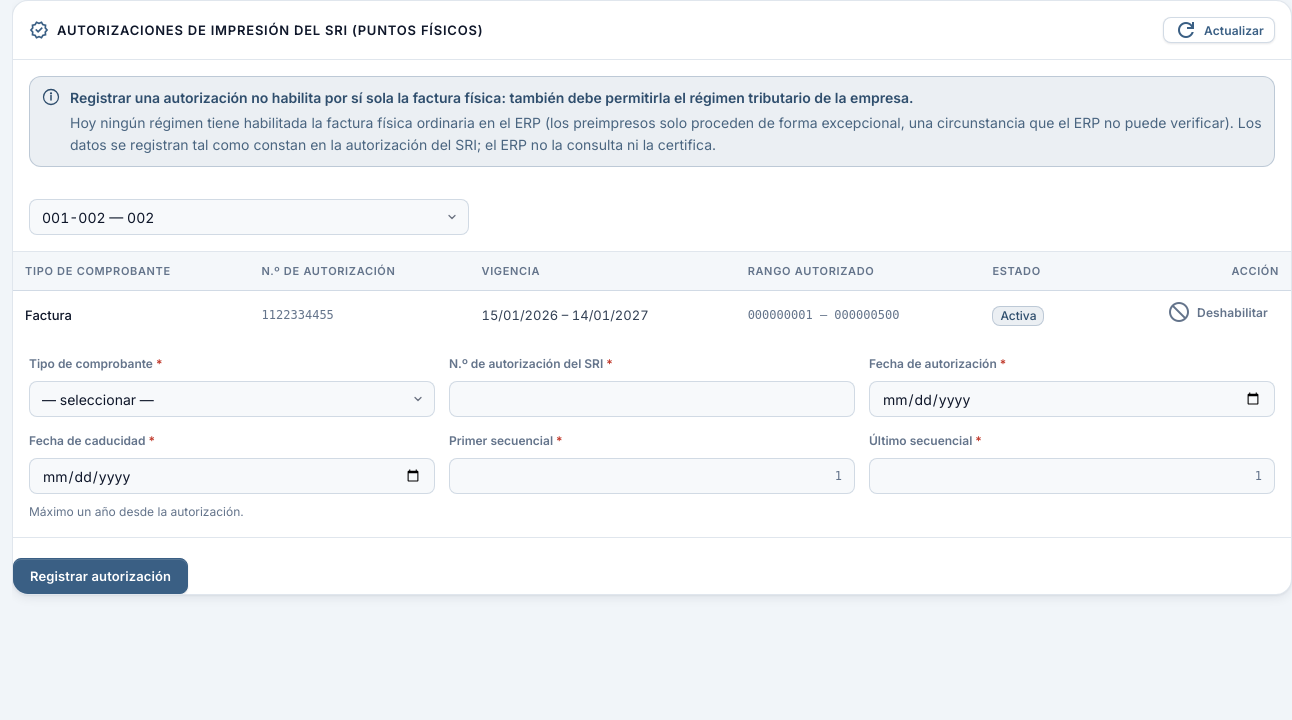
Test case: PhysicalDocumentAuthorizationsSection › informa el rango superpuesto que rechaza el backend
The width and height of the screenshot is (1292, 720).
Expected: the text "1122334455" is shown, top-left (262, 308), bottom-right (334, 322)
Select "01 — Factura" in the dropdown labelled "Tipo de comprobante*": (232, 399) top-left (29, 381), bottom-right (435, 417)
In the field labelled "N.º de autorización del SRI*": (652, 399) top-left (449, 381), bottom-right (855, 417), type "9988776655"
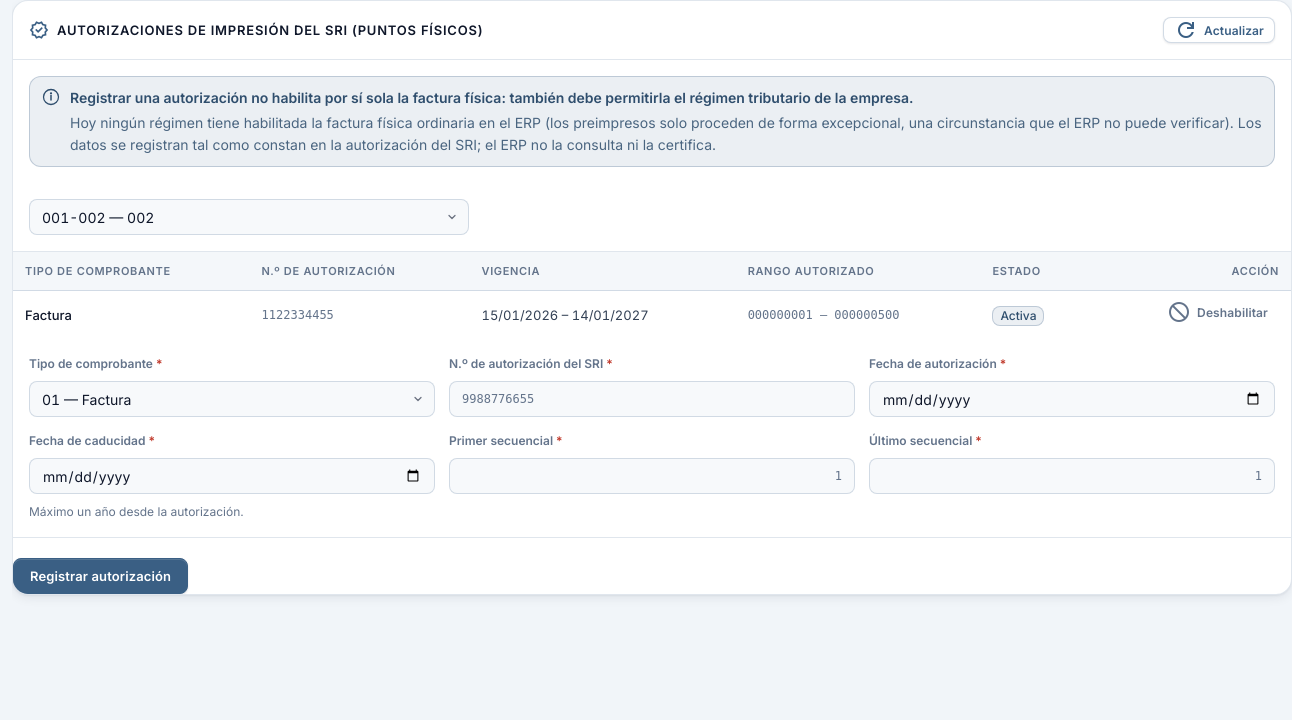
In the date field labelled "Fecha de autorización*": (1072, 399) top-left (869, 381), bottom-right (1275, 417), type "2027-01-15"
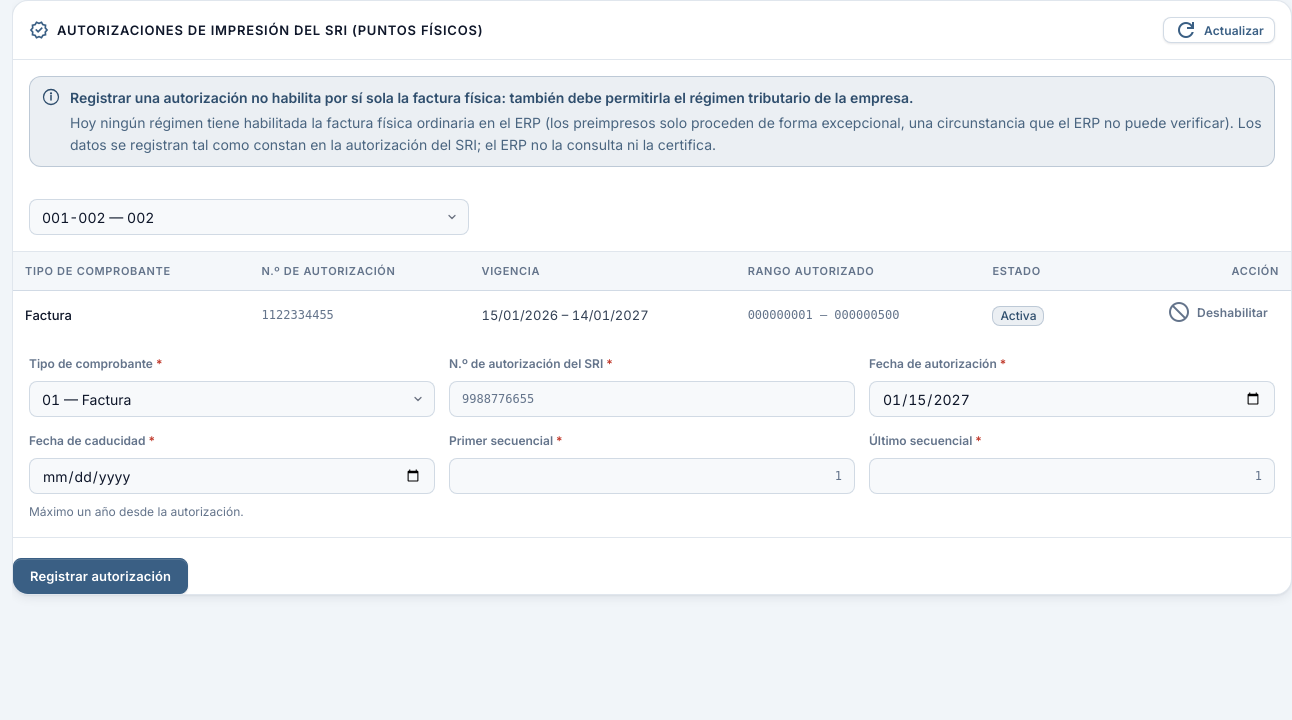
In the date field labelled "Fecha de caducidad* Máximo un año desde la autorización.": (232, 476) top-left (29, 458), bottom-right (435, 494), type "2028-01-14"
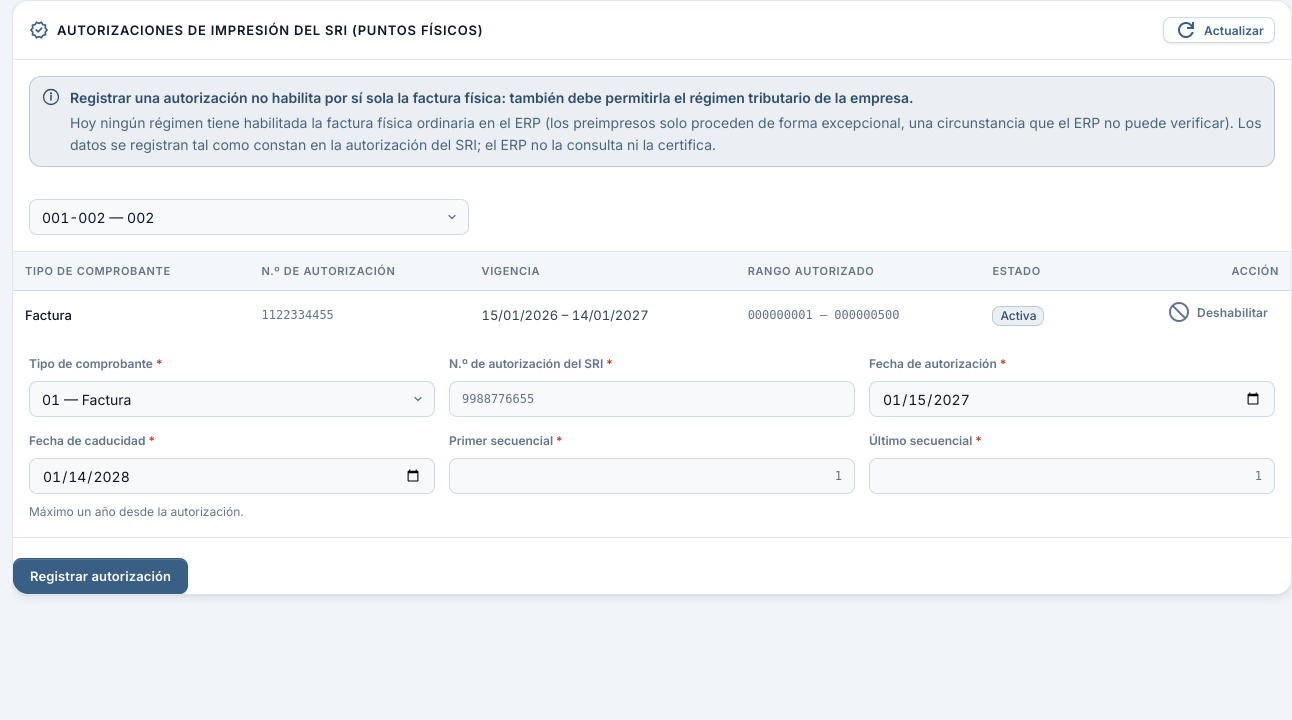
Replace the text in the field labelled "Primer secuencial*" with "400": (652, 476) top-left (449, 458), bottom-right (855, 494)
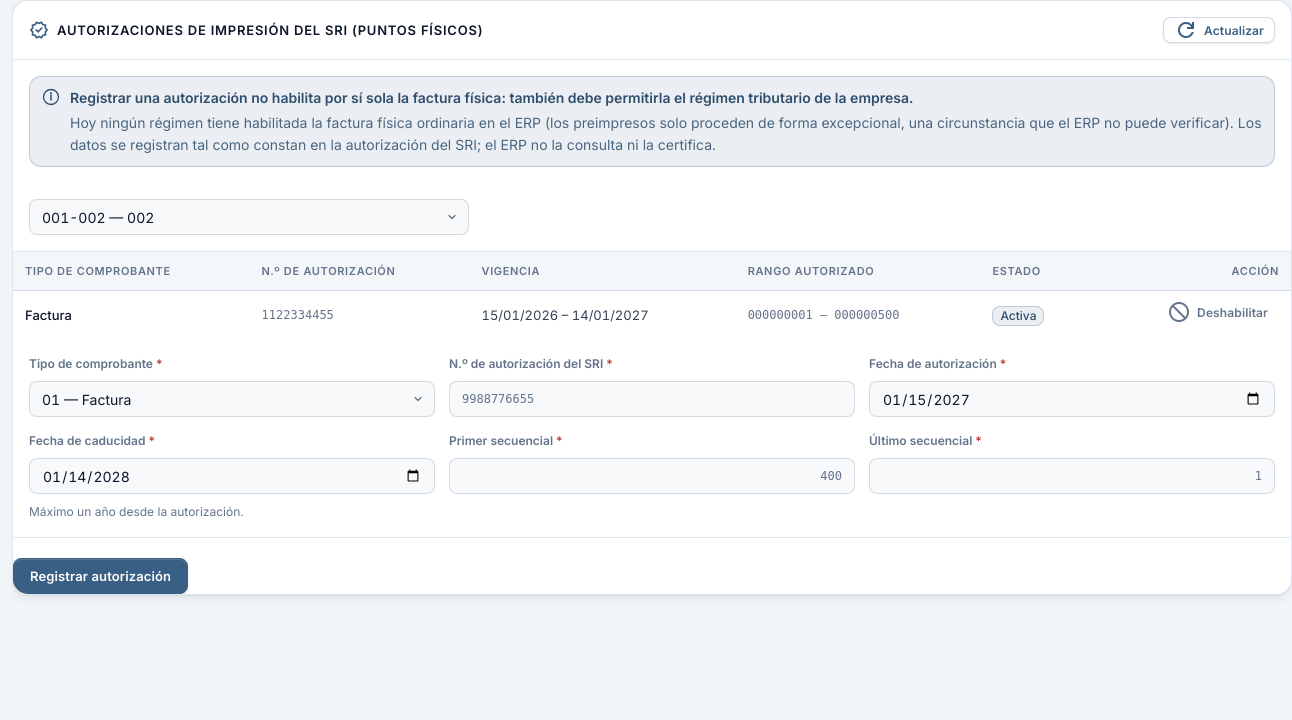
Replace the text in the field labelled "Último secuencial*" with "600": (1072, 476) top-left (869, 458), bottom-right (1275, 494)
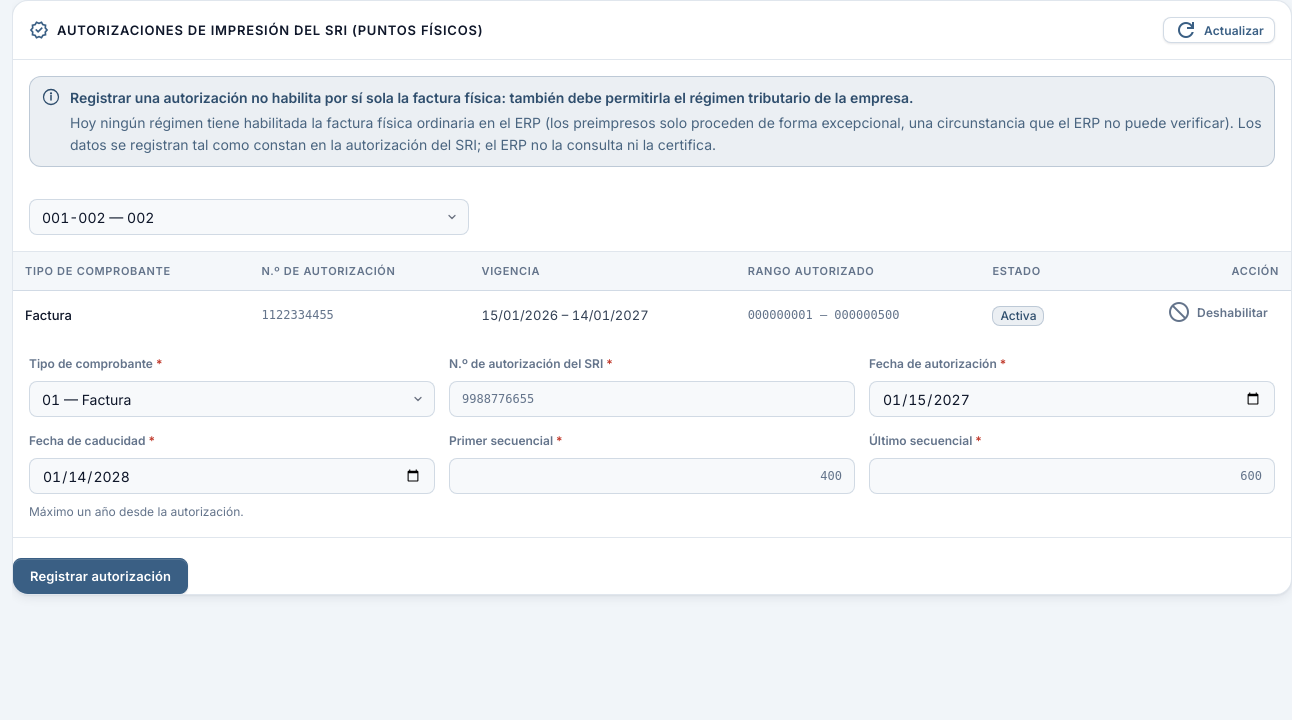
Click the button "Registrar autorización": (101, 576) top-left (13, 558), bottom-right (188, 594)
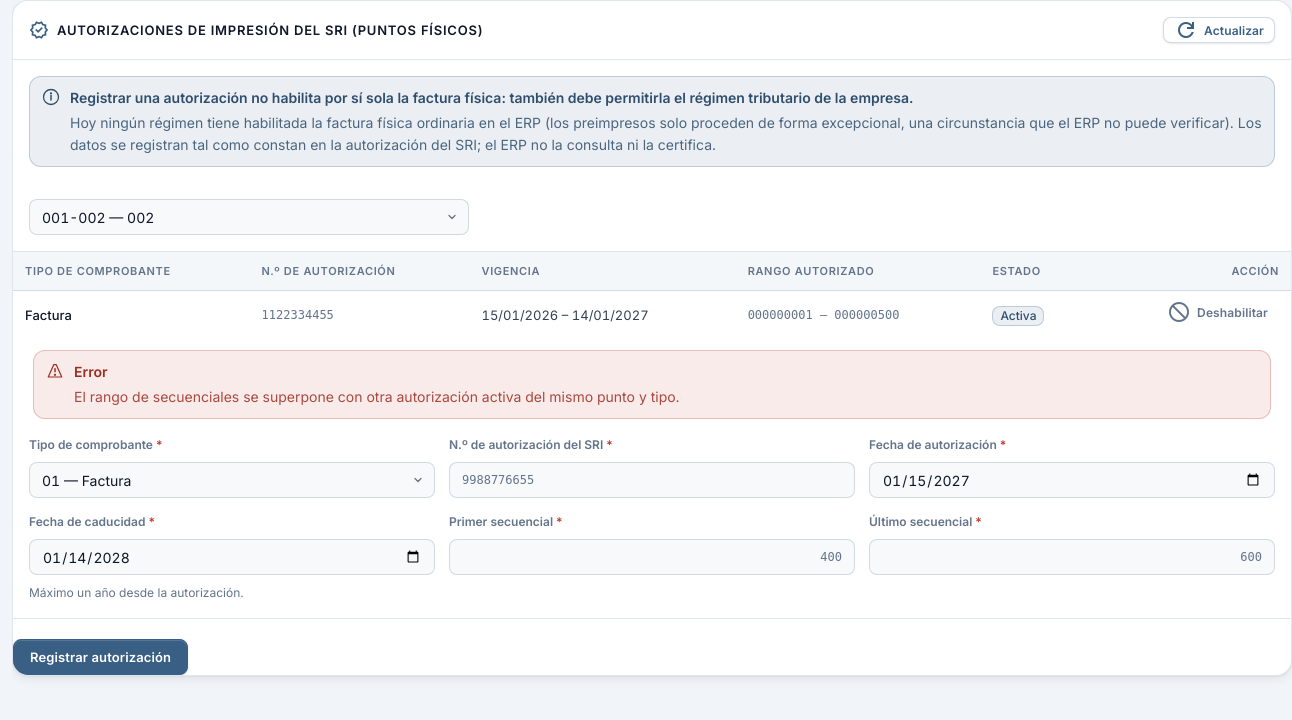
Expected: the text "se superpone con otra autorización activa" is shown, top-left (74, 388), bottom-right (680, 405)
